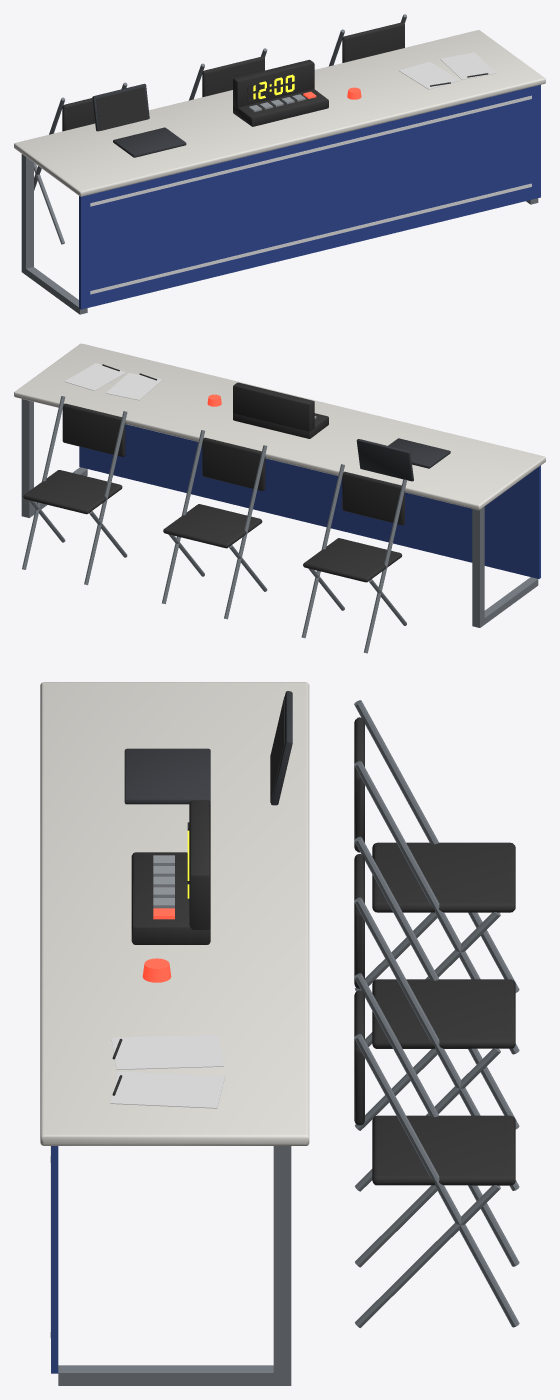
The model's file is vinish-scorers-table.glb.
3 views of the same model, one above another, from view 1: azimuth 30°, elevation 25°; view 2: azimuth 150°, elevation 25°; view 3: azimuth 270°, elevation 25° (orthographic). The views are drawn at different scales.
Visible parts, largest first — view 1: Scorers_Table; view 2: Scorers_Table; view 3: Scorers_Table.
Boxes of the visible parts, box(x1,y1,x2,y2) form: Scorers_Table: box(14, 14, 545, 314); Scorers_Table: box(14, 343, 545, 653); Scorers_Table: box(40, 682, 519, 1385).
Size of the model in its own units: 3 by 0.9999 by 1.34.
